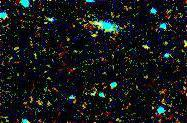star: (80, 21, 110, 51)
